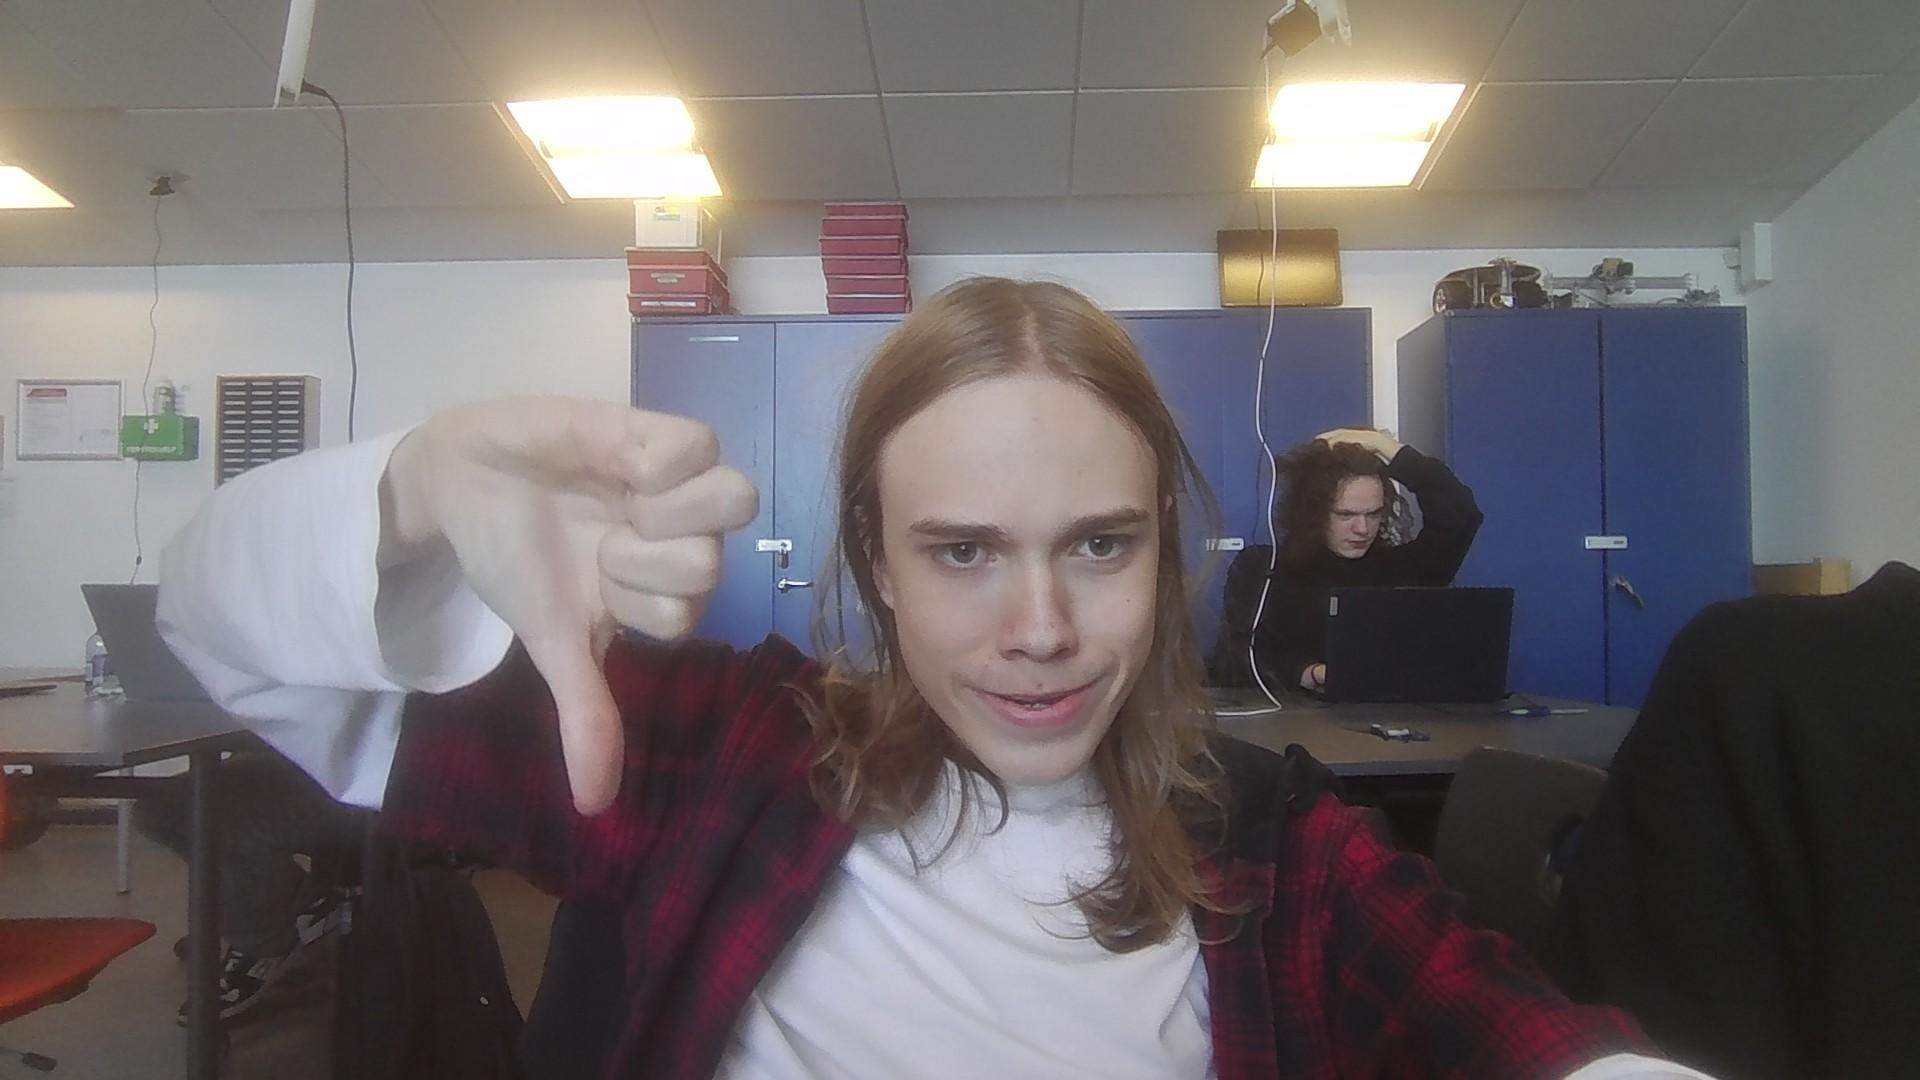thumbs down: (429, 406, 762, 818)
